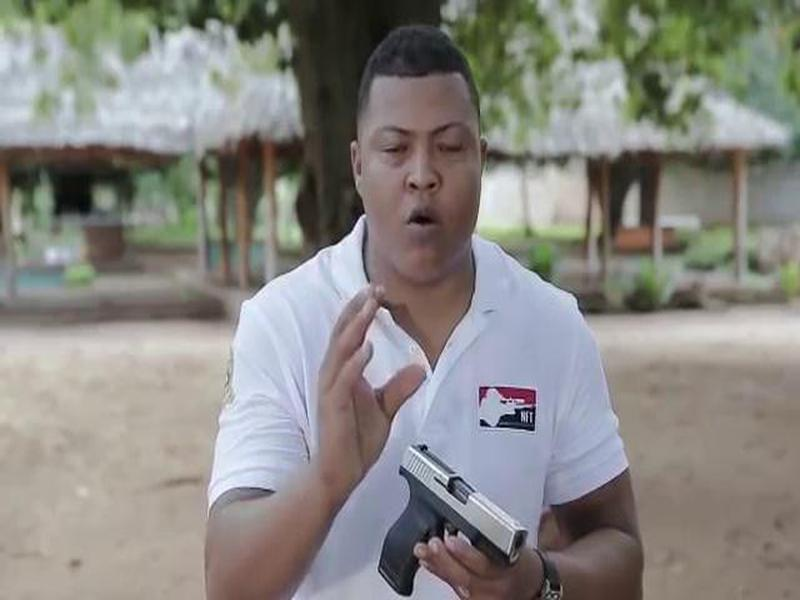Pistola: (370, 440, 539, 600)
